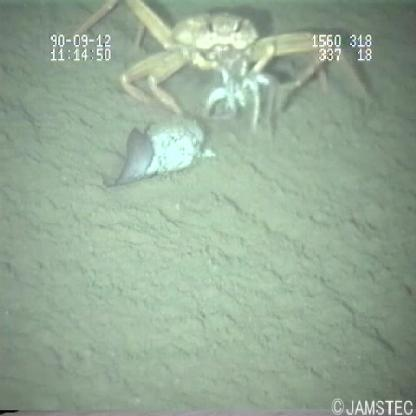Bio: (70, 3, 374, 190)
